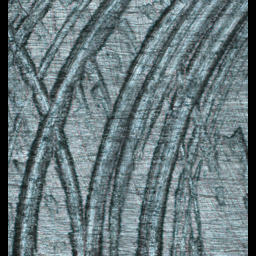d: (9, 1, 247, 256)
